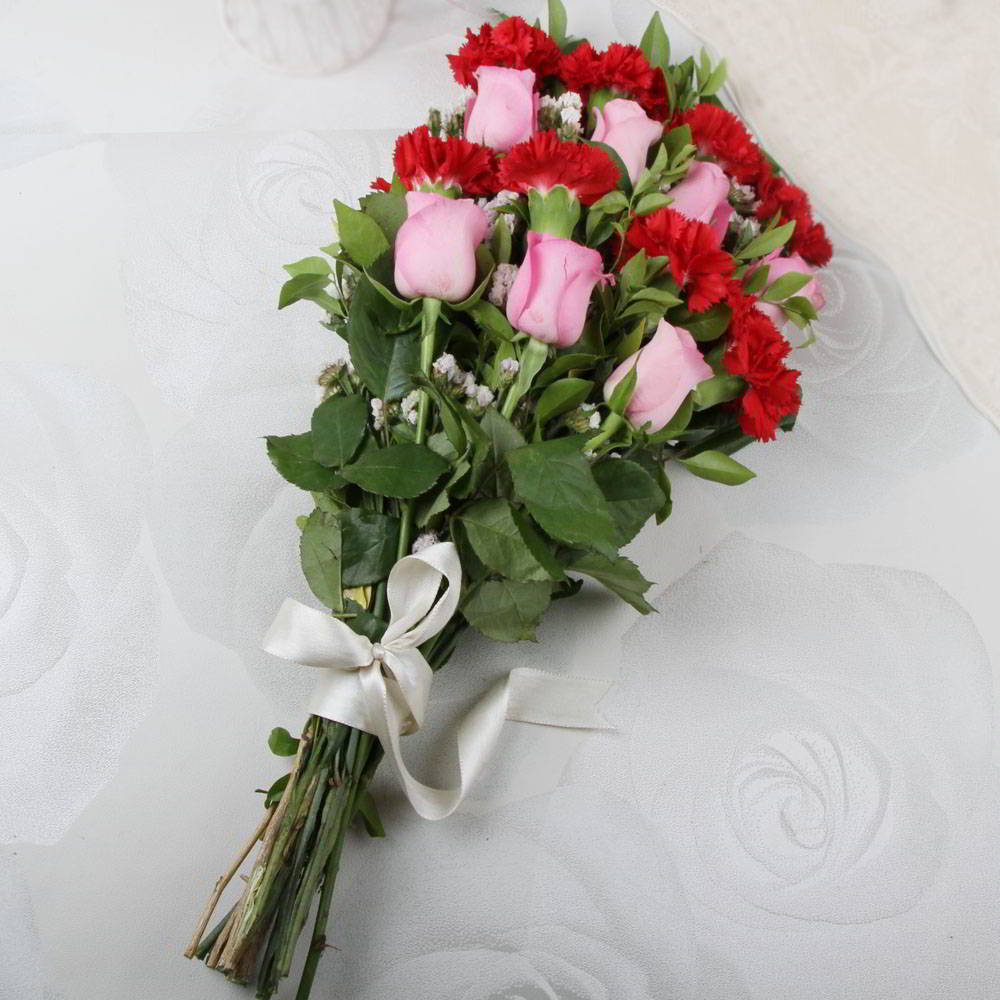Pink: (392, 190, 482, 300), (510, 233, 598, 343), (647, 325, 706, 429), (592, 105, 662, 177), (472, 70, 530, 147), (761, 249, 819, 312), (691, 165, 730, 221)
Red: (727, 307, 797, 427), (629, 214, 726, 300), (501, 131, 610, 197), (571, 34, 660, 98), (453, 21, 556, 68), (680, 99, 758, 160), (390, 134, 479, 187), (764, 175, 826, 239)
